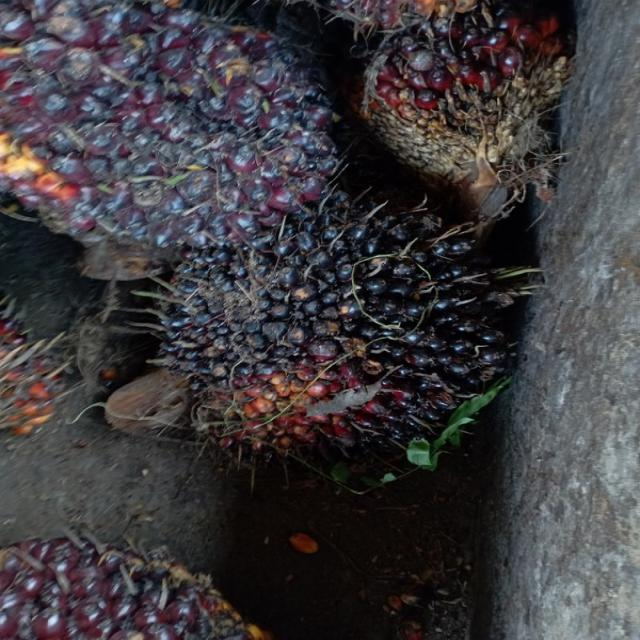fraksi 00: (160, 206, 506, 472)
fraksi 1: (0, 0, 337, 248)
